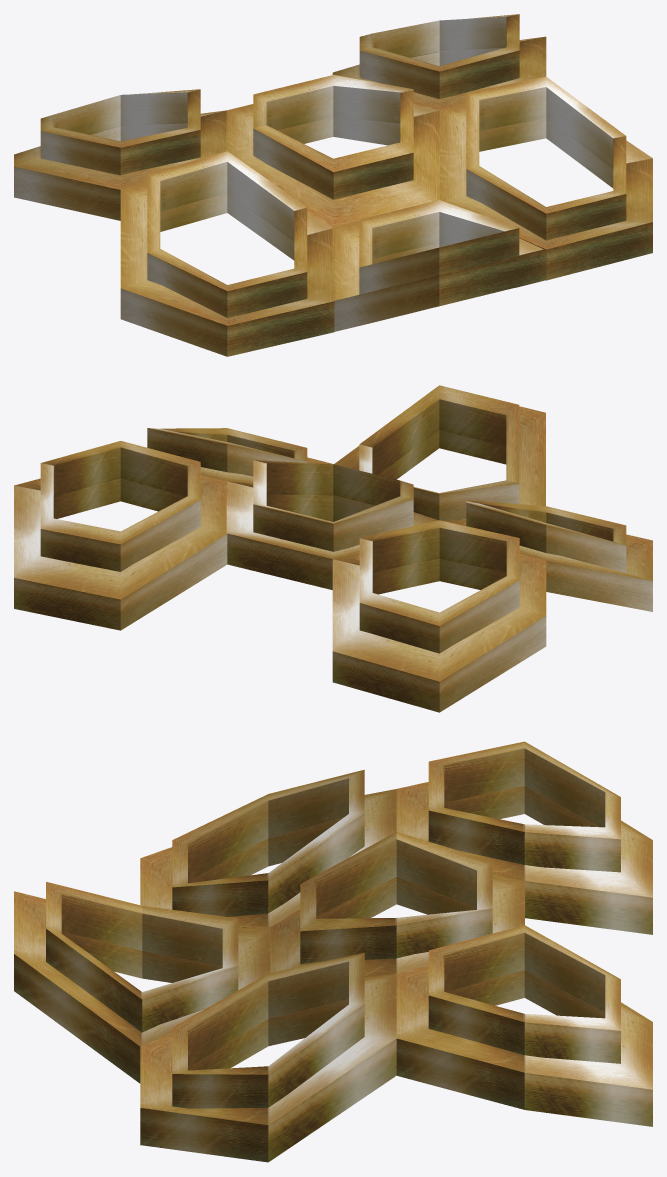
The model's file is static.glb.
The picture shows the model from 3 angles, top to bottom: view 1: azimuth 30°, elevation 25°; view 2: azimuth 150°, elevation 25°; view 3: azimuth 270°, elevation 25°; orthographic projection. The views are drawn at different scales.
Parts seen in each view (by area): view 1: Sweep_4, Sweep_3, Sweep_7, Sweep_9, Sweep_10, Sweep_8, Sweep_5, Sweep_11, Sweep, Sweep_2, Sweep_6, Sweep_12; view 2: Sweep_6, Sweep_12, Sweep_5, Sweep_11, Sweep, Sweep_7, Sweep_8, Sweep_3, Sweep_4, Sweep_2, Sweep_9, Sweep_10; view 3: Sweep_12, Sweep_10, Sweep_9, Sweep_11, Sweep_5, Sweep, Sweep_7, Sweep_3, Sweep_2, Sweep_6, Sweep_8, Sweep_4.
Boxes of the visible parts, x1=… form: Sweep_4: x1=120, y1=183, x2=334, y2=356; Sweep_3: x1=147, y1=151, x2=307, y2=317; Sweep_7: x1=253, y1=75, x2=413, y2=199; Sweep_9: x1=466, y1=76, x2=626, y2=240; Sweep_10: x1=439, y1=104, x2=652, y2=280; Sweep_8: x1=226, y1=104, x2=439, y2=226; Sweep_5: x1=40, y1=89, x2=200, y2=175; Sweep_11: x1=359, y1=14, x2=519, y2=98; Sweep: x1=359, y1=200, x2=519, y2=294; Sweep_2: x1=332, y1=220, x2=545, y2=331; Sweep_6: x1=14, y1=110, x2=227, y2=220; Sweep_12: x1=332, y1=36, x2=546, y2=110; Sweep_6: x1=332, y1=552, x2=546, y2=712; Sweep_12: x1=14, y1=475, x2=227, y2=630; Sweep_5: x1=359, y1=520, x2=519, y2=653; Sweep_11: x1=40, y1=441, x2=200, y2=571; Sweep: x1=359, y1=385, x2=519, y2=520; Sweep_7: x1=253, y1=460, x2=413, y2=551; Sweep_8: x1=226, y1=481, x2=437, y2=589; Sweep_3: x1=466, y1=500, x2=626, y2=572; Sweep_4: x1=446, y1=519, x2=652, y2=611; Sweep_2: x1=334, y1=406, x2=545, y2=521; Sweep_9: x1=147, y1=428, x2=307, y2=476; Sweep_10: x1=200, y1=457, x2=333, y2=483; Sweep_12: x1=396, y1=966, x2=652, y2=1126; Sweep_10: x1=140, y1=974, x2=396, y2=1162; Sweep_9: x1=172, y1=953, x2=364, y2=1108; Sweep_11: x1=428, y1=925, x2=620, y2=1063; Sweep_5: x1=428, y1=741, x2=620, y2=872; Sweep: x1=46, y1=881, x2=238, y2=1032; Sweep_7: x1=300, y1=831, x2=492, y2=964; Sweep_3: x1=172, y1=769, x2=364, y2=916; Sweep_2: x1=14, y1=891, x2=270, y2=1083; Sweep_6: x1=396, y1=782, x2=652, y2=934; Sweep_8: x1=270, y1=872, x2=524, y2=977; Sweep_4: x1=140, y1=789, x2=396, y2=927.
Bounding box in the file's own units: 0.9334 × 0.2083 × 0.8077.
1 material, 1 textured.
